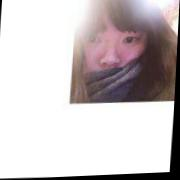WRONG: (74, 13, 152, 97)
